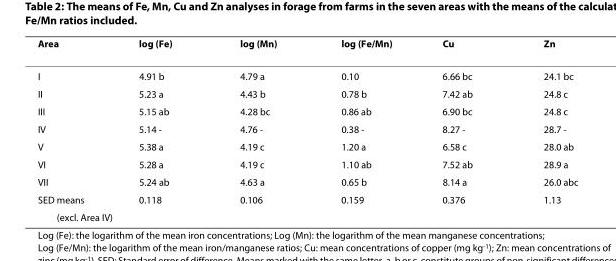table: (36, 37, 577, 222)
table column: (308, 37, 416, 222), (205, 37, 308, 222), (416, 37, 507, 222), (36, 37, 124, 222), (124, 37, 205, 222), (507, 37, 577, 222)
table column header: (36, 37, 577, 59)
table row: (36, 59, 577, 84), (36, 37, 577, 59), (36, 84, 577, 102), (36, 119, 577, 137), (36, 137, 577, 155), (36, 172, 577, 190), (36, 190, 577, 208), (36, 102, 577, 119), (36, 155, 577, 172), (36, 208, 577, 222)
